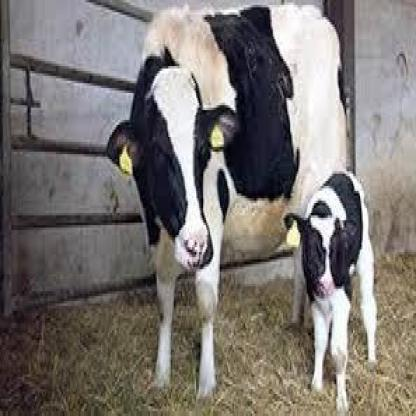cow: (107, 0, 345, 399), (284, 171, 376, 416)
